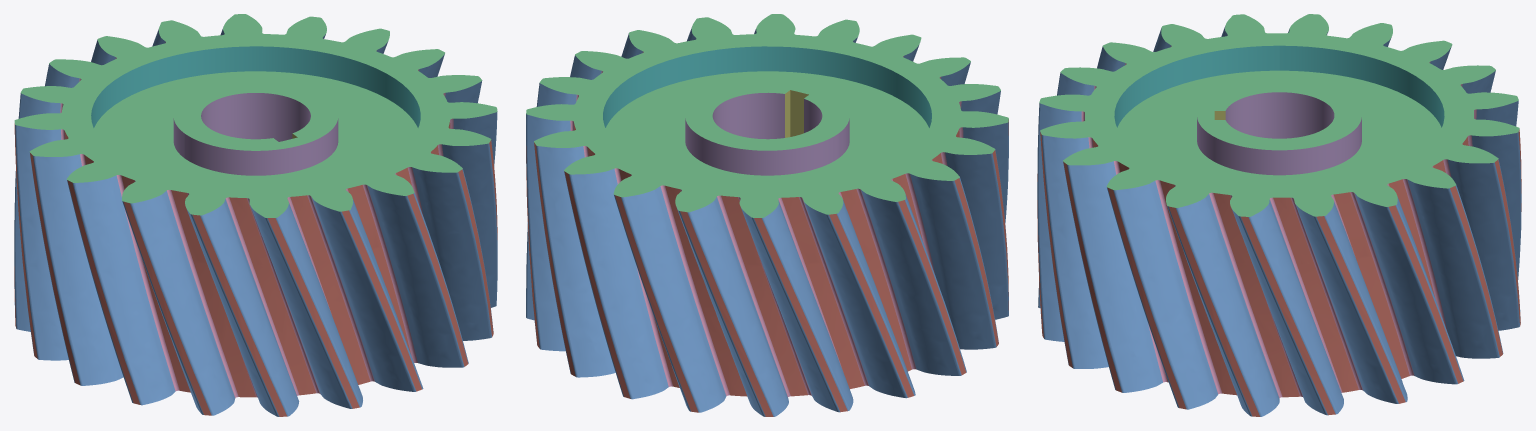
3 views of the same model, side by side, from view 1: azimuth 30°, elevation 25°; view 2: azimuth 150°, elevation 25°; view 3: azimuth 270°, elevation 25° (orthographic).
Visible parts, largest first — view 1: Helical Gear v4; view 2: Helical Gear v4; view 3: Helical Gear v4.
Boxes of the visible parts, x1=… form: Helical Gear v4: x1=14, y1=14, x2=497, y2=416; Helical Gear v4: x1=526, y1=14, x2=1008, y2=416; Helical Gear v4: x1=1037, y1=14, x2=1521, y2=416.
Bounding box in the file's own units: 0.044 × 0.02 × 0.044.
